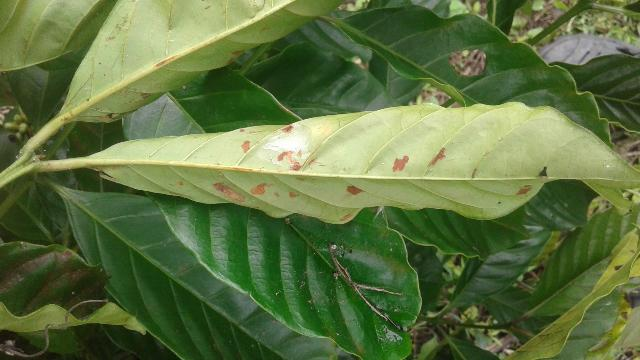red_spider_mite: (83, 100, 640, 225)
